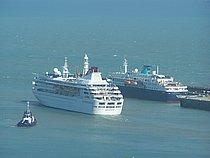Ship: (26, 49, 130, 119), (108, 58, 193, 107)
